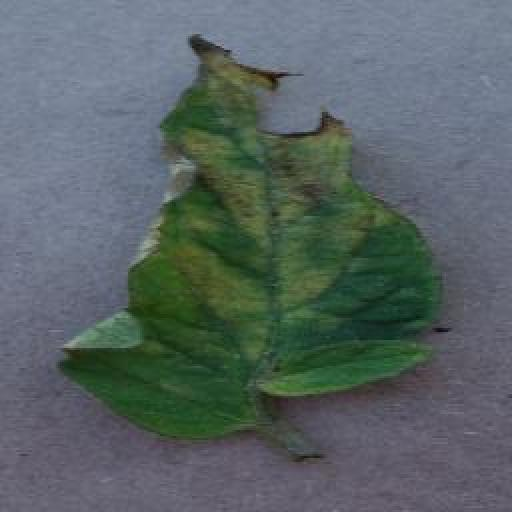Leaf Mold: (53, 30, 448, 446)
